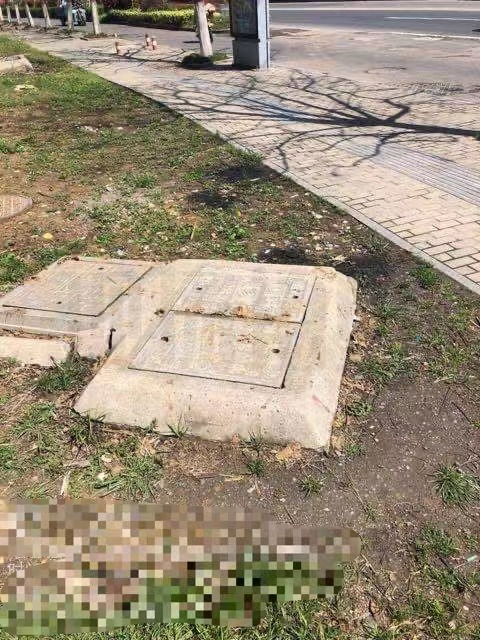well: (118, 269, 325, 393), (1, 256, 164, 322)
